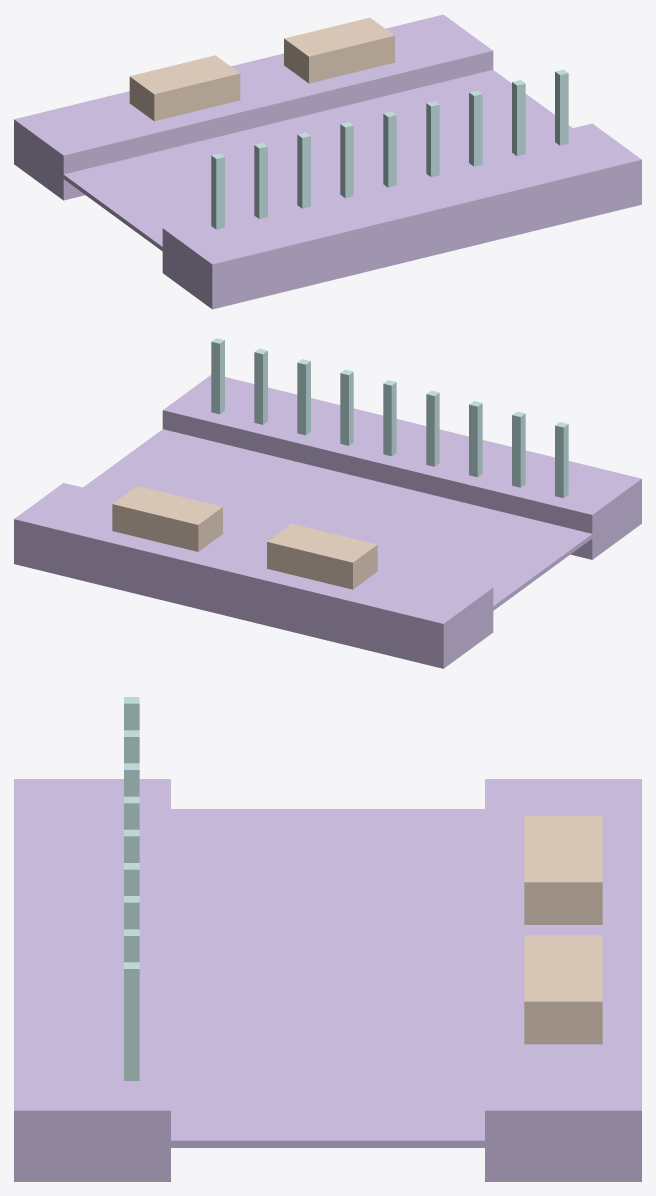
The model's file is mask.glb.
The picture shows the model from 3 angles, top to bottom: view 1: azimuth 30°, elevation 25°; view 2: azimuth 150°, elevation 25°; view 3: azimuth 270°, elevation 25°; orthographic projection. The views are drawn at different scales.
Visible parts, largest first — view 1: Box001, Box003, Box002, Box004 (×9), Box014, Box013; view 2: Box002, Box003, Box001, Box004 (×9), Box013, Box014; view 3: Box003, Box001, Box002, Box013, Box014, Box004.
Boxes of the visible parts, x1,y1,x2,y2 form: Box001: [162, 123, 641, 309]; Box003: [63, 70, 572, 251]; Box002: [14, 14, 493, 200]; Box004 (×9): [211, 69, 568, 229]; Box014: [129, 55, 240, 121]; Box013: [284, 17, 394, 83]; Box002: [14, 483, 493, 668]; Box003: [83, 429, 592, 610]; Box001: [162, 375, 641, 559]; Box004 (×9): [211, 338, 568, 498]; Box013: [112, 486, 222, 551]; Box014: [267, 523, 377, 589]; Box003: [171, 809, 484, 1147]; Box001: [14, 779, 170, 1181]; Box002: [485, 779, 641, 1181]; Box013: [524, 935, 602, 1044]; Box014: [524, 816, 602, 924]; Box004: [124, 962, 139, 1080].
Size of the model in its own units: 50 by 12.86 by 40.
